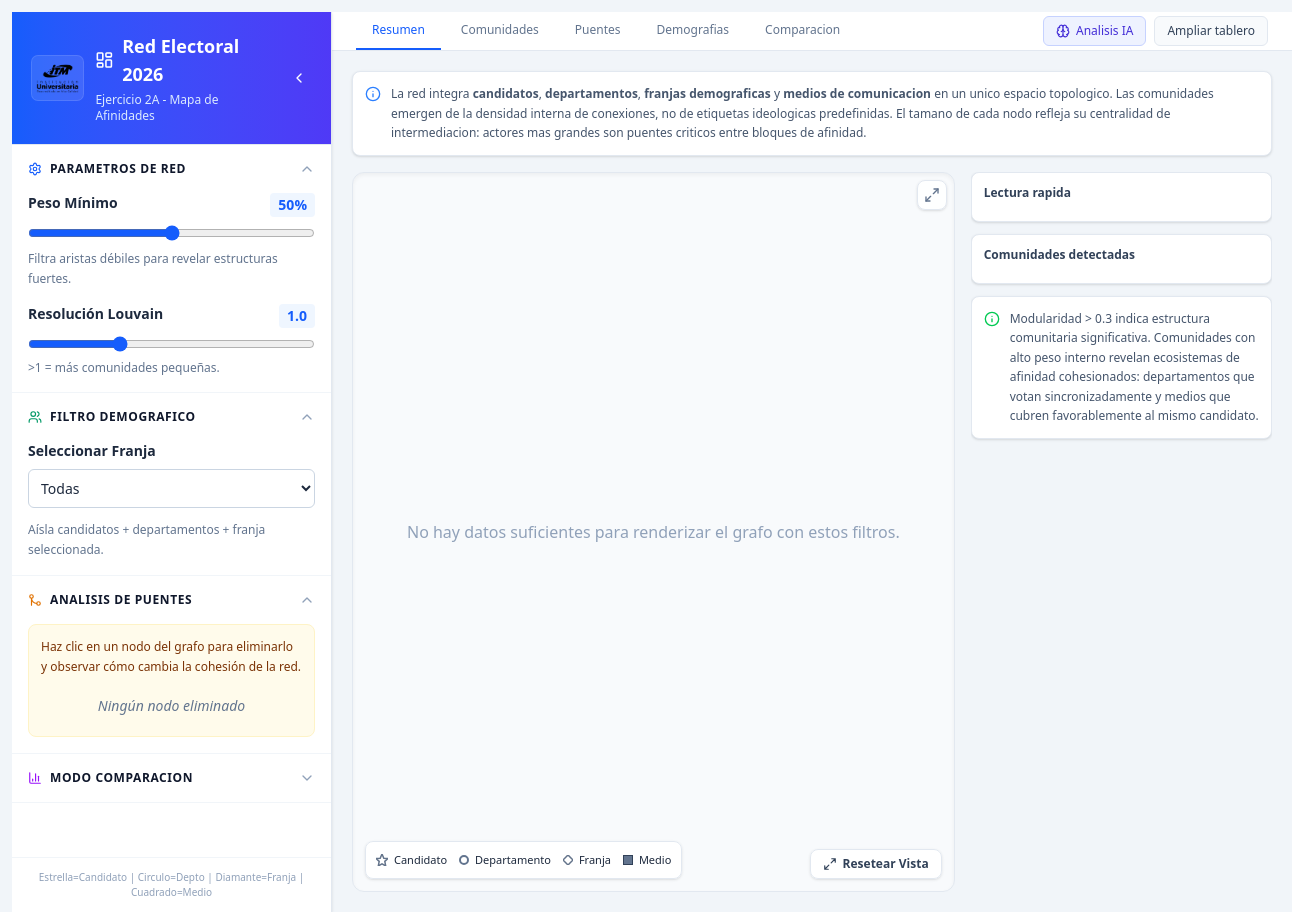
Test: App integration › permite abrir modo comparación
Expected: the heading "Red Electoral 2026" is shown, [95, 34, 239, 86]
Click the button "Comparacion": (803, 31) [749, 12, 856, 50]
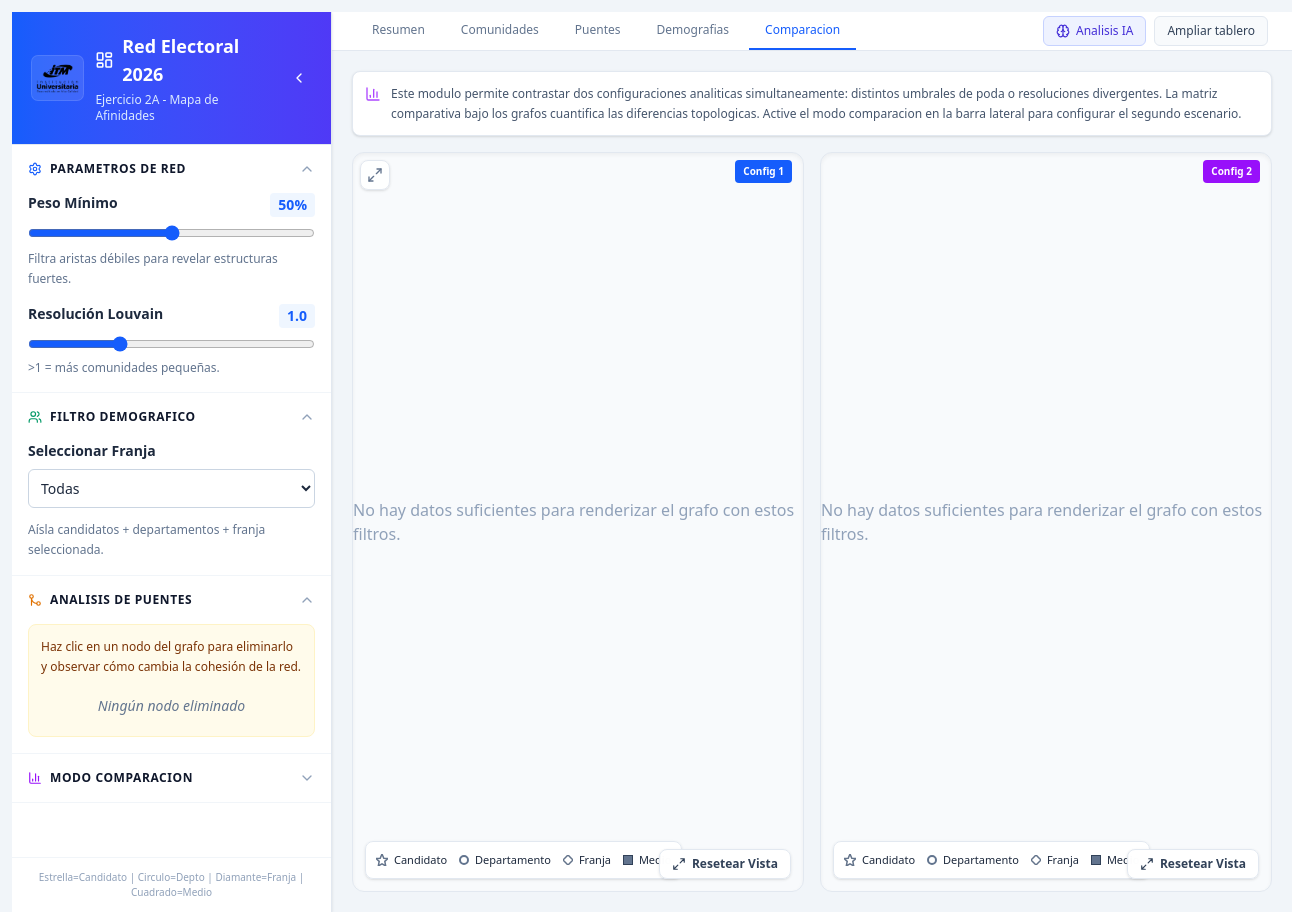
Result: the text "diferencias topologicas" is shown at [391, 85, 1242, 122]
